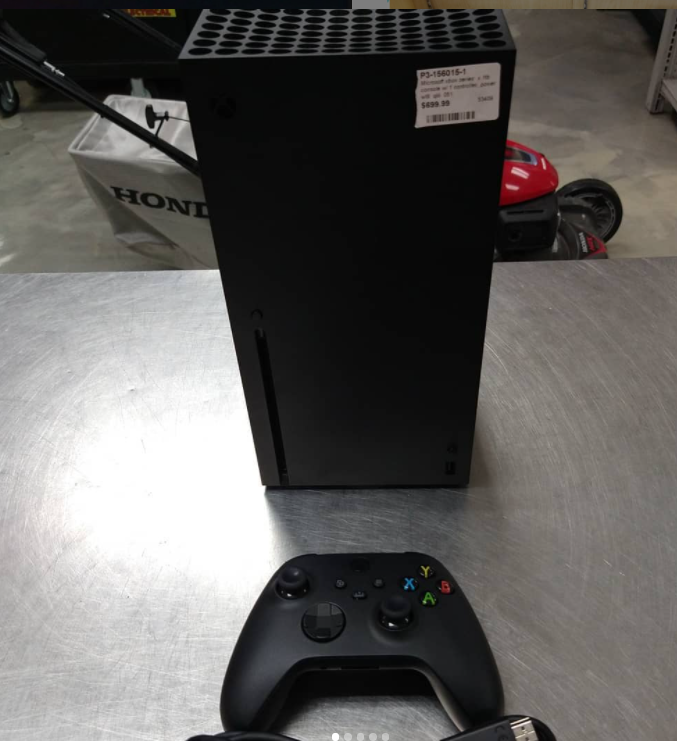gamingconsole: (220, 554, 506, 728)
